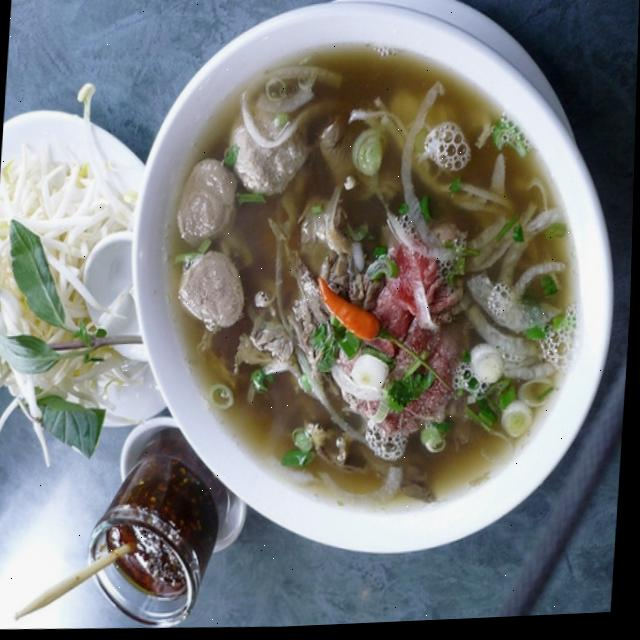面条主食: (134, 25, 601, 524)
